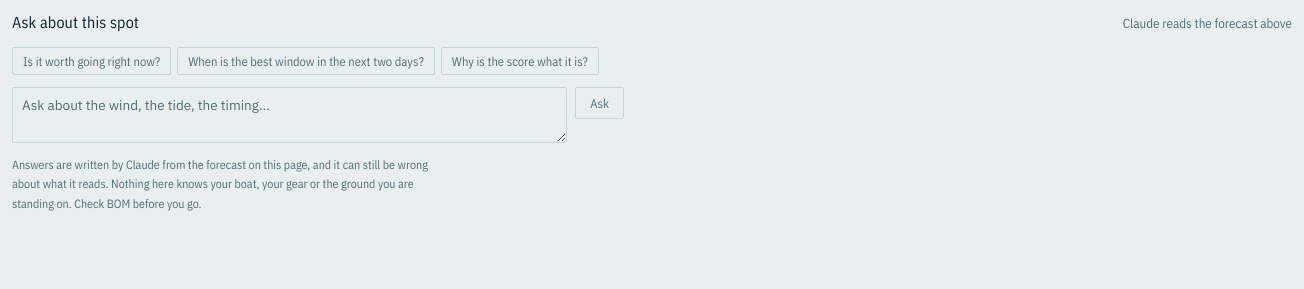
it: SpotChat › shows the reason when the server refuses, rather than nothing at all
This screenshot has width=1304, height=289.
Type "Worth going?" into the text box named "Ask a question about this spot". click: (290, 115)
box: [12,87,567,143]
Then press Enter
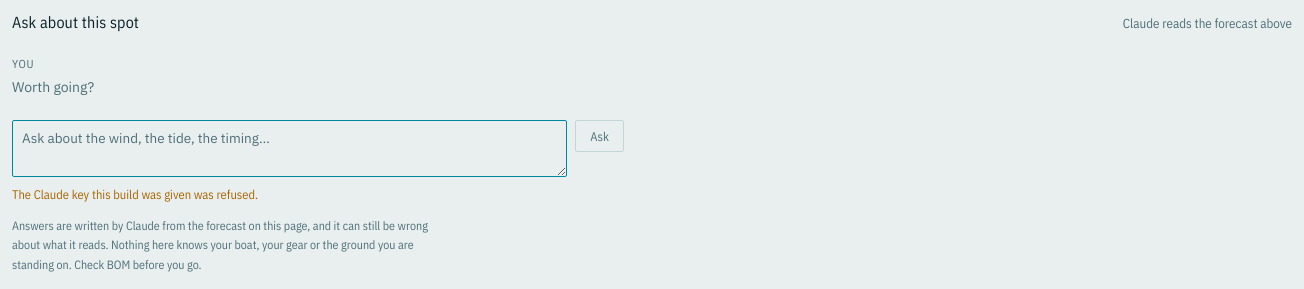
expect the message reads "The Claude key this build was given was refused.": met, box [12,186,258,202]
expect the text "Worth going?" is shown: met, box [12,78,94,96]
